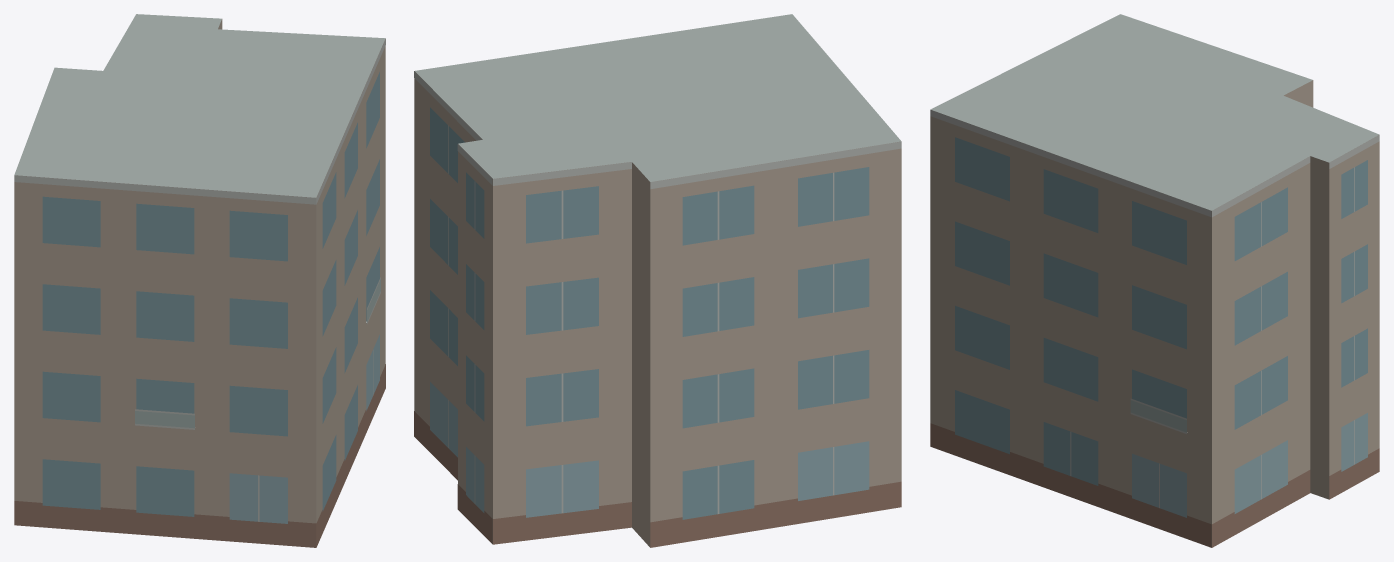
The model's file is survey-upis-32916060.glb.
3 views of the same model, side by side, from view 1: azimuth 30°, elevation 25°; view 2: azimuth 150°, elevation 25°; view 3: azimuth 270°, elevation 25° (orthographic). The views are drawn at different scales.
Parts seen in each view (by area): view 1: survey-upis-32916060.tmp; view 2: survey-upis-32916060.tmp; view 3: survey-upis-32916060.tmp.
Part boxes in pixels (box(x1,y1,x2,y2)): survey-upis-32916060.tmp: box(14, 14, 385, 547); survey-upis-32916060.tmp: box(414, 14, 901, 547); survey-upis-32916060.tmp: box(930, 14, 1379, 547).
Bounding box in the file's own units: 15.67 × 12.5 × 15.11.
